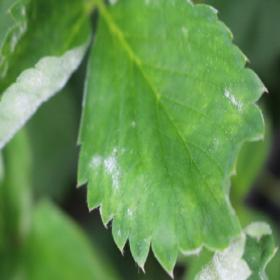Powdery Mildew Leaf: (76, 0, 269, 279), (0, 0, 91, 153), (193, 220, 279, 279)
